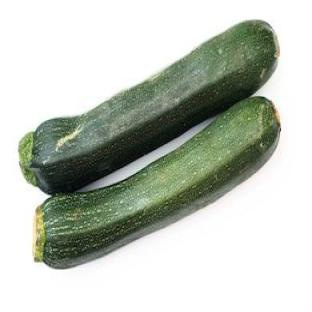Zucchini: (20, 21, 279, 193), (34, 98, 279, 267)
